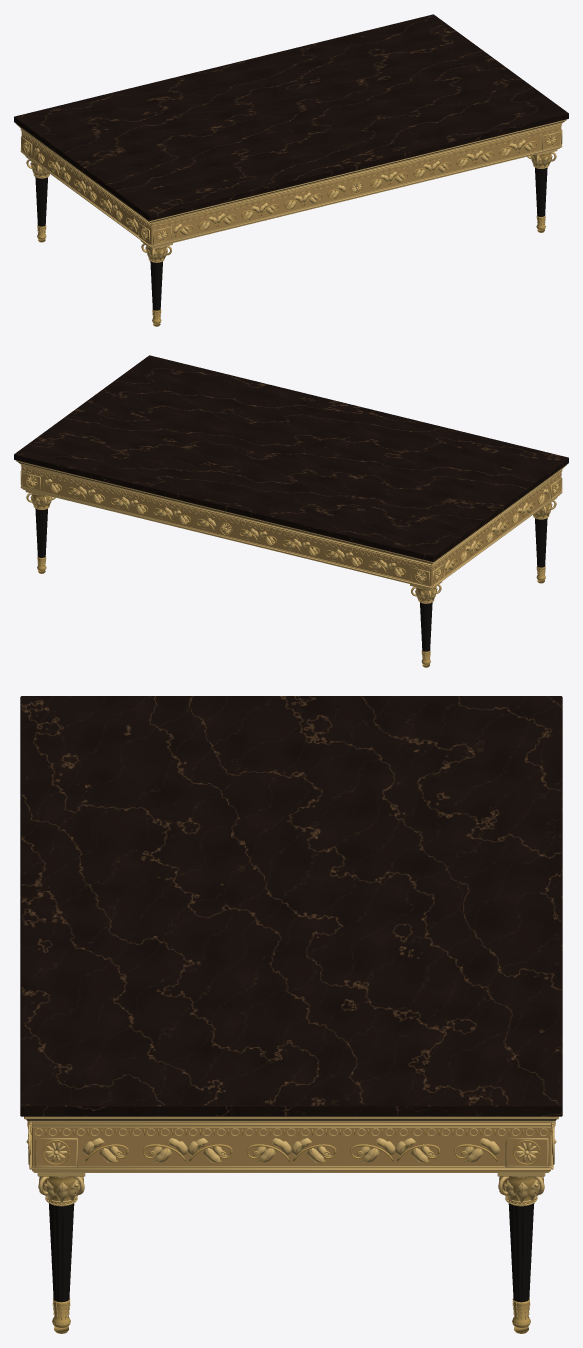
3 renders of one model, top to bottom at view 1: azimuth 30°, elevation 25°; view 2: azimuth 150°, elevation 25°; view 3: azimuth 270°, elevation 25°, orthographic. The views are drawn at different scales.
Parts seen in each view (by area): view 1: Trianon rectangular Emperor coffee table | lounge-8 web batc; view 2: Trianon rectangular Emperor coffee table | lounge-8 web batc; view 3: Trianon rectangular Emperor coffee table | lounge-8 web batc.
Part boxes in pixels (left/top/right/bottom): Trianon rectangular Emperor coffee table | lounge-8 web batc: left=14, top=14, right=568, bottom=326; Trianon rectangular Emperor coffee table | lounge-8 web batc: left=14, top=355, right=568, bottom=667; Trianon rectangular Emperor coffee table | lounge-8 web batc: left=20, top=696, right=562, bottom=1333.
Bounding box in the file's own units: 1.7 × 0.47 × 0.95.
Materials: 6 (1 with a texture image).
